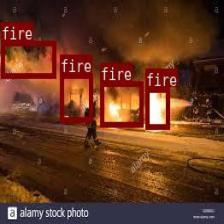fire: (1, 41, 55, 77), (100, 80, 142, 126), (60, 72, 92, 121), (145, 86, 169, 128)
